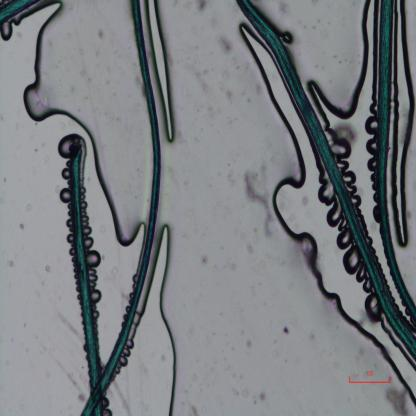Air bubble: (23, 14, 144, 247), (260, 103, 376, 314), (389, 0, 416, 251), (143, 0, 179, 144), (157, 221, 182, 414), (58, 132, 88, 156), (328, 128, 352, 158), (80, 186, 94, 236), (342, 248, 360, 275), (364, 295, 383, 320), (318, 179, 335, 206), (326, 202, 343, 228), (336, 230, 352, 249), (87, 248, 102, 268), (0, 21, 14, 41), (88, 267, 99, 290), (356, 265, 368, 284), (343, 170, 357, 186), (60, 188, 72, 204), (90, 289, 102, 304), (364, 277, 373, 294), (60, 168, 71, 180), (352, 194, 362, 206), (67, 233, 76, 244)
Background material: (235, 164, 273, 232), (380, 381, 411, 414), (227, 385, 268, 407), (366, 115, 379, 173), (211, 29, 237, 54), (194, 1, 216, 16), (192, 252, 210, 266), (280, 317, 290, 337), (92, 24, 104, 38), (6, 258, 17, 271), (84, 236, 94, 249)
Cellulose filter fibre: (42, 262, 53, 274)
Microfibre: (238, 0, 416, 358), (78, 0, 162, 415), (378, 0, 416, 320), (69, 145, 104, 415), (0, 0, 39, 25)
